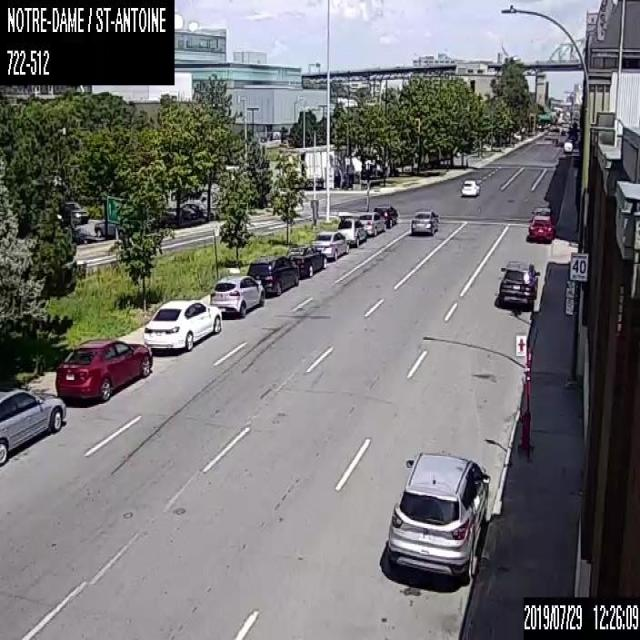vehicle: (385, 449, 489, 580), (55, 338, 151, 400), (0, 387, 65, 464), (143, 300, 222, 350), (209, 274, 264, 316), (246, 254, 298, 295), (496, 258, 539, 306), (285, 245, 326, 278), (310, 231, 348, 259), (527, 204, 553, 240), (337, 218, 366, 245), (410, 208, 437, 233), (358, 211, 385, 236), (372, 203, 397, 228), (94, 219, 127, 237), (62, 200, 87, 222), (460, 178, 478, 194), (562, 137, 572, 152)
